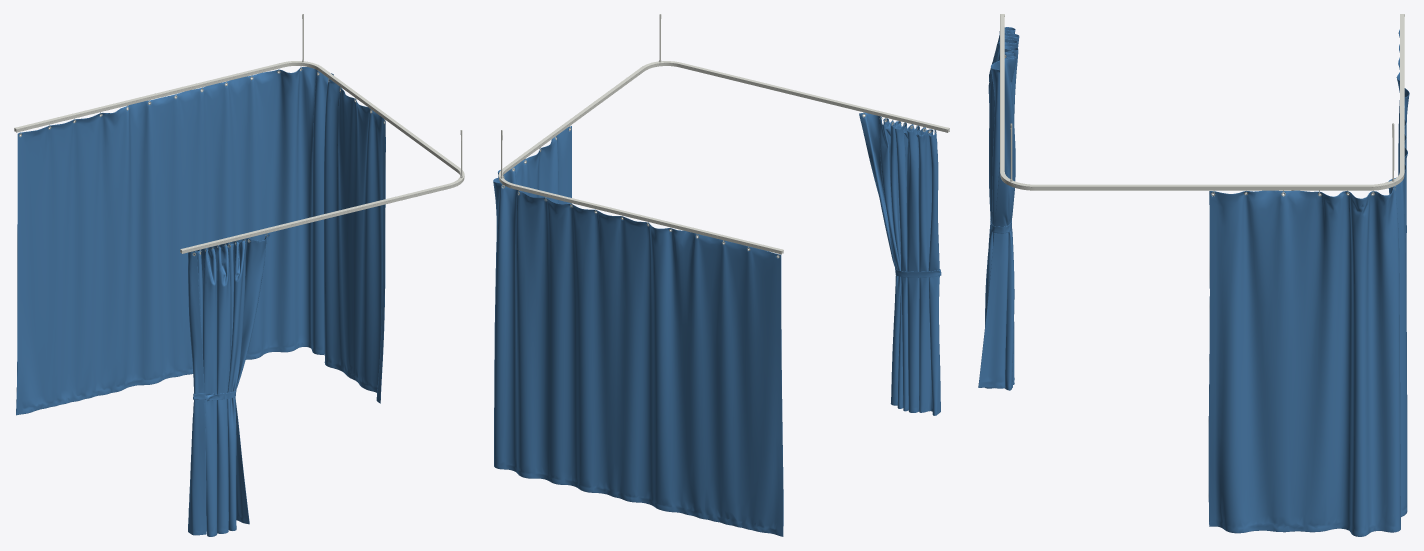
The model's file is screen_hospital_b05.glb.
3 renders of one model, left to right at view 1: azimuth 30°, elevation 25°; view 2: azimuth 150°, elevation 25°; view 3: azimuth 270°, elevation 25°, orthographic. The views are drawn at different scales.
Bounding box in the file's own units: 3.24 × 3.45 × 3.34.
